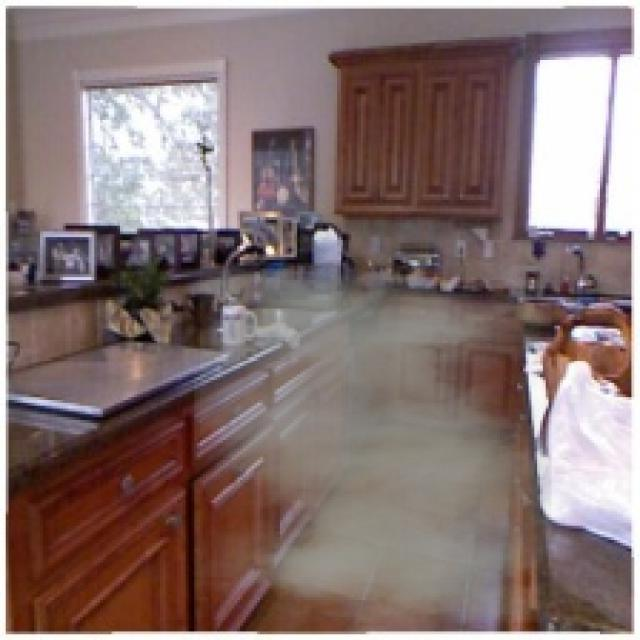Smoke: (194, 268, 552, 623)
